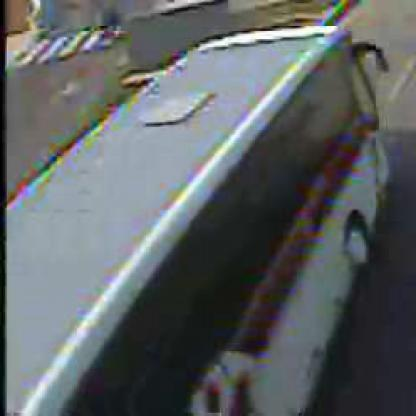bus: (8, 32, 378, 415)
